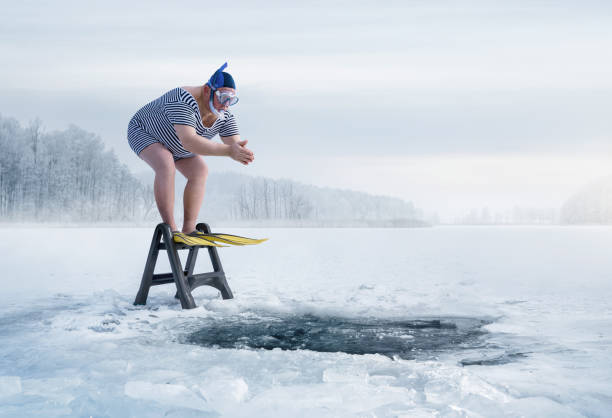without mask: (201, 62, 242, 124)
